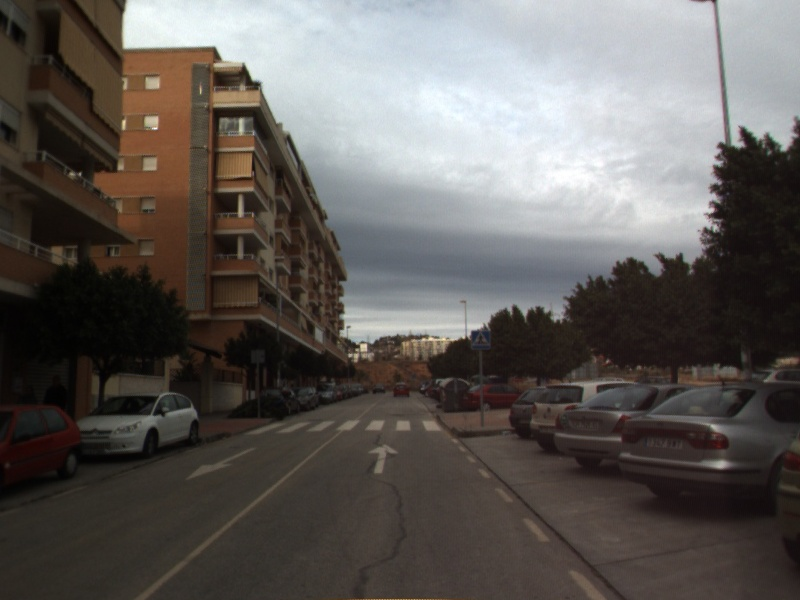STRAIGHT: (366, 442, 400, 476)
